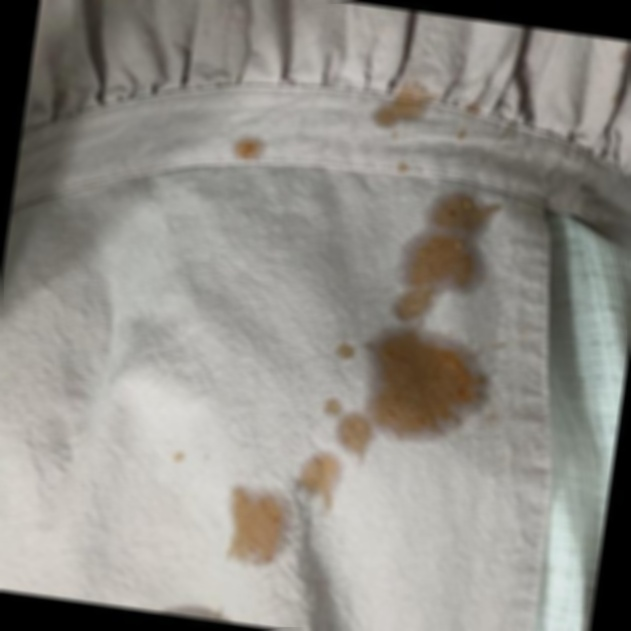kimchi: (295, 183, 519, 463), (208, 450, 355, 580), (363, 69, 498, 182), (219, 124, 278, 179), (165, 443, 185, 467)
